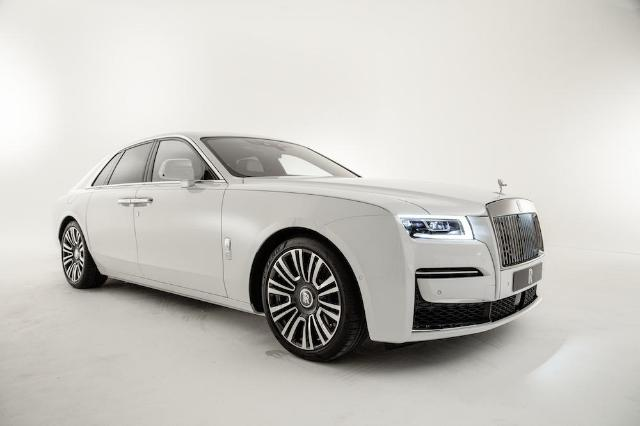rolls-royce: (58, 132, 546, 364)
